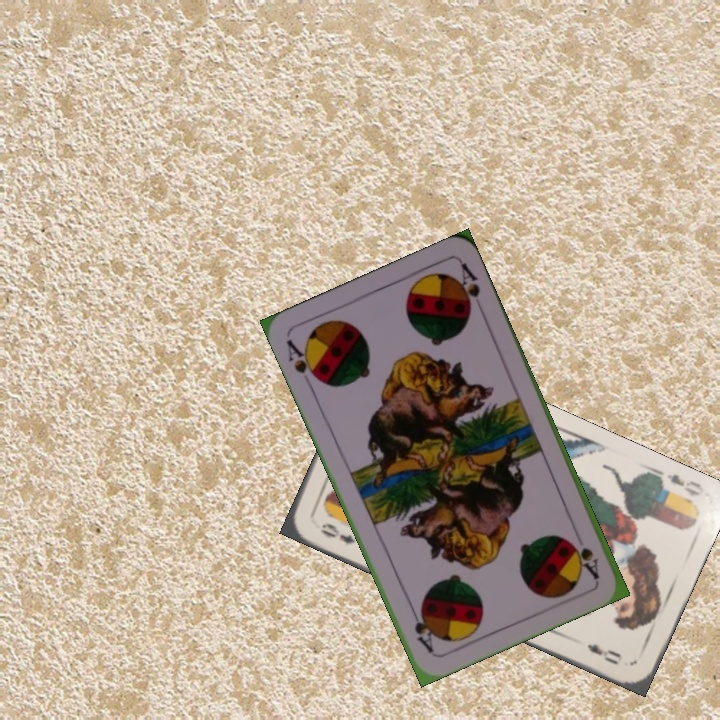EO: (651, 466, 707, 505), (315, 518, 358, 547)
SA: (282, 335, 324, 385), (568, 538, 602, 581)
